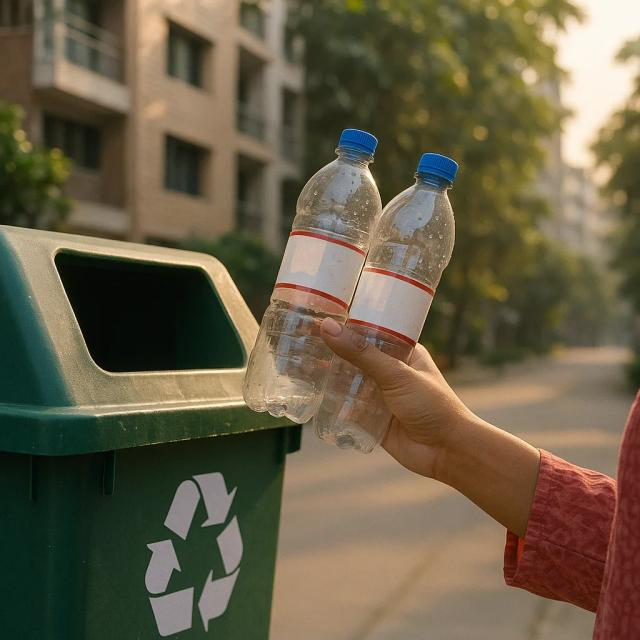plastic: (311, 150, 468, 450), (242, 126, 383, 424)
